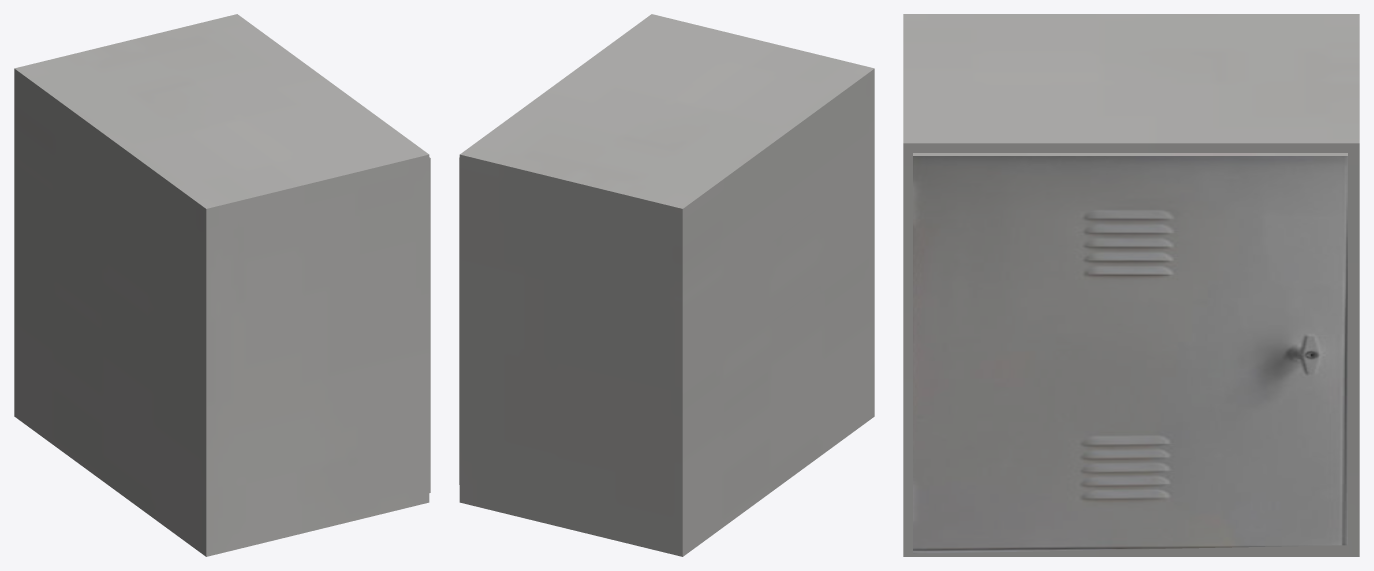
Rendered from FuseBox.glb.
3 renders of one model, left to right at view 1: azimuth 30°, elevation 25°; view 2: azimuth 150°, elevation 25°; view 3: azimuth 270°, elevation 25°, orthographic. The views are drawn at different scales.
Visible parts, largest first — view 1: Box, Flap; view 2: Box; view 3: Flap, Box.
Boxes of the visible parts, x1,y1,x2,y2 form: Box: (14,14,429,556); Flap: (429,157,430,492); Box: (459,14,874,556); Flap: (913,153,1347,553); Box: (903,14,1359,556).
Size of the model in its own units: 4.97 by 7.23 by 7.23.
Materials: 2 (2 with a texture image).
